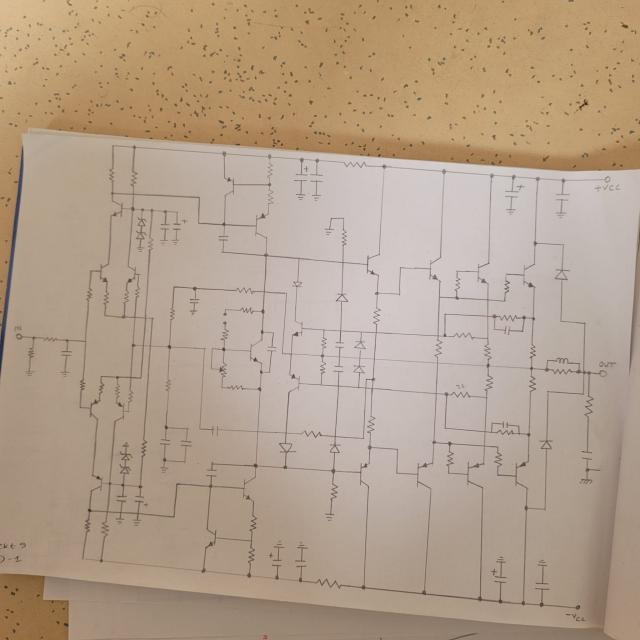capacitor: (504, 181, 526, 201), (292, 166, 310, 187), (491, 568, 508, 585), (267, 551, 283, 568), (552, 191, 570, 205), (133, 492, 148, 508), (172, 218, 188, 232), (308, 170, 324, 184), (532, 580, 550, 591), (59, 347, 73, 358), (209, 423, 220, 437), (580, 448, 592, 460), (115, 493, 128, 504), (294, 558, 308, 568), (332, 364, 346, 374), (178, 438, 192, 448), (204, 467, 218, 477), (498, 419, 512, 428), (158, 222, 170, 232), (502, 326, 514, 335), (218, 233, 230, 242), (267, 342, 276, 354), (334, 340, 344, 350), (160, 437, 170, 447), (188, 298, 199, 304)
crossover: (283, 429, 289, 436), (433, 361, 440, 367), (340, 260, 346, 266), (485, 297, 491, 302), (255, 429, 261, 434), (484, 313, 490, 318), (369, 386, 374, 392), (147, 343, 153, 348), (435, 333, 440, 338), (142, 315, 147, 320), (372, 356, 376, 362), (332, 434, 338, 438), (289, 351, 293, 357), (128, 374, 132, 380), (482, 429, 487, 433), (262, 289, 266, 294), (433, 391, 438, 395), (373, 330, 378, 334), (119, 510, 123, 515), (140, 342, 144, 347), (482, 443, 486, 447), (131, 192, 135, 196), (357, 356, 361, 360), (136, 511, 140, 515), (105, 510, 109, 514), (337, 355, 341, 359), (364, 386, 367, 390)
diode: (552, 267, 570, 284), (276, 441, 296, 454), (538, 437, 553, 452), (334, 292, 349, 304), (327, 442, 341, 454), (291, 278, 303, 292), (352, 363, 366, 374), (134, 229, 148, 240), (119, 463, 131, 475), (353, 340, 367, 350), (119, 450, 133, 460), (136, 216, 146, 228)
ground: (553, 210, 568, 222), (294, 192, 306, 204), (494, 554, 508, 564), (272, 539, 286, 549), (504, 206, 516, 217), (309, 192, 322, 202), (296, 540, 309, 550), (577, 477, 593, 485), (537, 557, 549, 567), (323, 512, 335, 522), (323, 227, 334, 236), (187, 309, 198, 317), (59, 369, 70, 377), (159, 465, 168, 474), (131, 518, 141, 526), (158, 238, 168, 246), (170, 238, 180, 246), (114, 517, 124, 524), (135, 245, 144, 252), (121, 442, 131, 448), (24, 371, 36, 376)
inductor: (553, 357, 571, 364)
junction: (380, 162, 389, 172), (439, 167, 448, 175), (442, 390, 450, 398), (510, 173, 518, 181), (537, 601, 545, 608), (534, 175, 542, 182), (559, 176, 567, 183), (519, 314, 527, 321), (298, 156, 305, 164), (487, 172, 496, 178), (200, 567, 207, 574), (259, 308, 266, 315), (220, 346, 227, 353), (496, 598, 504, 604), (297, 577, 304, 583), (86, 507, 93, 513), (220, 221, 227, 227), (256, 385, 262, 392), (64, 337, 71, 343), (282, 290, 288, 297), (360, 584, 367, 590), (532, 240, 538, 246), (520, 600, 526, 606), (431, 439, 437, 445), (98, 557, 104, 563), (582, 320, 588, 326), (163, 424, 169, 430), (530, 316, 536, 322), (192, 285, 198, 291), (88, 268, 94, 274), (196, 194, 202, 200), (396, 291, 402, 297), (560, 242, 566, 248), (394, 446, 400, 452), (558, 318, 564, 324), (523, 505, 529, 511), (370, 376, 376, 382), (313, 156, 319, 162), (266, 152, 272, 158), (221, 150, 227, 156), (529, 365, 535, 371), (545, 388, 551, 394), (421, 589, 427, 595), (110, 143, 116, 149), (208, 483, 214, 489), (273, 574, 279, 580), (161, 457, 167, 463), (130, 342, 136, 348), (584, 466, 589, 473), (331, 467, 336, 474), (31, 334, 36, 340), (367, 444, 372, 450), (174, 481, 179, 487), (398, 264, 403, 270), (138, 374, 143, 380), (374, 290, 379, 296), (196, 219, 201, 225), (329, 215, 334, 221), (340, 216, 345, 222), (263, 252, 269, 257), (296, 256, 302, 261), (437, 294, 443, 299), (477, 596, 482, 602), (447, 441, 452, 447), (282, 464, 287, 470), (253, 463, 259, 468), (358, 330, 364, 335), (166, 344, 172, 349), (120, 314, 126, 319), (102, 312, 107, 318), (171, 284, 176, 289), (171, 514, 176, 519), (454, 295, 459, 300), (502, 298, 507, 303), (443, 312, 448, 317), (576, 369, 581, 374), (579, 391, 584, 396), (542, 506, 547, 511), (174, 210, 179, 215), (149, 208, 154, 213), (132, 145, 137, 150), (442, 333, 447, 338), (197, 425, 202, 430), (126, 409, 131, 414), (136, 272, 141, 277), (266, 183, 272, 187), (527, 431, 531, 437), (361, 435, 365, 441), (335, 384, 341, 388), (246, 573, 252, 577), (492, 313, 496, 319), (492, 326, 496, 332), (520, 328, 524, 334), (137, 484, 143, 488), (80, 556, 86, 560), (78, 404, 82, 410), (320, 354, 326, 358), (454, 269, 459, 273), (544, 367, 548, 372), (586, 370, 591, 374), (517, 423, 521, 428), (489, 429, 493, 434), (394, 470, 398, 475), (318, 382, 322, 387), (259, 370, 263, 375), (260, 329, 264, 334), (271, 331, 275, 336), (338, 328, 343, 332), (364, 376, 368, 381), (209, 461, 214, 465), (486, 363, 490, 368), (210, 346, 215, 350), (185, 426, 189, 431), (182, 459, 186, 464), (120, 482, 124, 487), (83, 338, 87, 343), (504, 272, 508, 276), (545, 358, 549, 362), (496, 473, 500, 477), (490, 421, 494, 425), (219, 386, 223, 390), (140, 208, 144, 212), (110, 191, 114, 195), (322, 328, 326, 332), (249, 538, 253, 542), (484, 395, 488, 399), (224, 307, 228, 311), (202, 347, 206, 351), (115, 375, 119, 379), (99, 374, 103, 378), (132, 315, 136, 319), (150, 316, 154, 320), (577, 361, 580, 366), (443, 426, 448, 429), (357, 385, 360, 390), (582, 370, 585, 374), (447, 471, 450, 475), (281, 351, 284, 355), (220, 250, 224, 253), (130, 207, 134, 210), (486, 336, 489, 340), (108, 482, 111, 486), (267, 371, 270, 374), (164, 210, 168, 212), (210, 366, 212, 370), (517, 432, 520, 434), (496, 445, 498, 448)
resistor: (314, 578, 344, 590), (583, 395, 594, 419), (342, 160, 368, 169), (450, 332, 475, 341), (128, 168, 139, 188), (365, 415, 376, 435), (338, 226, 348, 247), (138, 438, 148, 459), (318, 359, 329, 378), (234, 285, 254, 295), (483, 373, 493, 393), (493, 450, 503, 470), (99, 520, 110, 538), (301, 429, 323, 438), (450, 389, 472, 398), (264, 162, 275, 180), (329, 482, 339, 501), (432, 338, 442, 357), (527, 342, 537, 361), (527, 373, 537, 392), (372, 305, 381, 326), (248, 513, 257, 534), (552, 366, 573, 375), (246, 545, 255, 565), (264, 188, 274, 206), (498, 313, 520, 321), (26, 344, 36, 361), (483, 342, 492, 360), (445, 450, 454, 468), (83, 518, 93, 534), (146, 234, 154, 254), (238, 305, 255, 314), (218, 361, 227, 378), (85, 287, 94, 303), (101, 289, 110, 305), (495, 428, 513, 436), (219, 328, 229, 342), (319, 334, 327, 351), (133, 285, 142, 300), (502, 278, 510, 294), (121, 287, 129, 303), (168, 306, 176, 322), (41, 334, 57, 342), (77, 378, 86, 392), (164, 378, 172, 393), (108, 166, 115, 183), (227, 384, 246, 390), (454, 276, 461, 292), (114, 382, 120, 398), (98, 380, 104, 395), (127, 388, 133, 402)
terminal: (601, 174, 615, 187), (221, 311, 228, 326), (598, 369, 607, 377), (15, 333, 24, 340), (574, 604, 581, 610), (597, 468, 601, 472)
text: (592, 185, 620, 194), (565, 612, 586, 622), (454, 381, 467, 391), (598, 361, 616, 368), (14, 325, 23, 332)
transistor: (412, 459, 436, 491), (465, 459, 487, 491), (252, 211, 273, 240), (513, 458, 530, 492), (518, 263, 538, 289), (238, 476, 258, 502), (365, 253, 383, 278), (426, 256, 443, 282), (247, 338, 264, 364), (358, 459, 372, 489), (220, 174, 237, 198), (202, 527, 218, 552), (475, 262, 493, 284), (286, 370, 302, 394), (108, 199, 125, 221), (290, 316, 304, 338), (112, 399, 124, 424), (98, 260, 110, 284), (90, 472, 104, 492), (88, 398, 100, 420), (124, 262, 136, 284)
